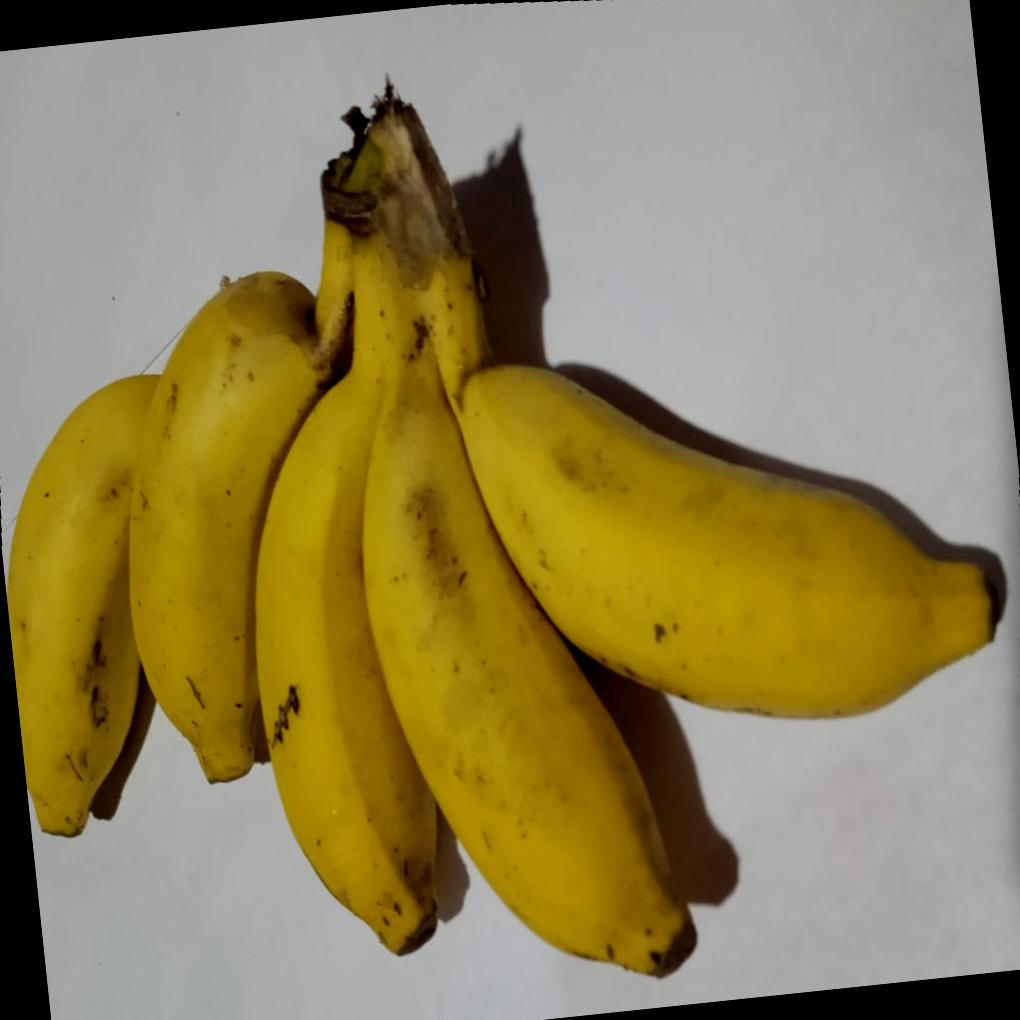Banana Ripe: (314, 24, 1020, 1020), (204, 57, 715, 1020), (0, 231, 395, 941)
